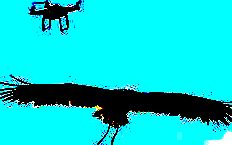Bird: (0, 72, 231, 144)
Drone: (26, 0, 85, 36)
